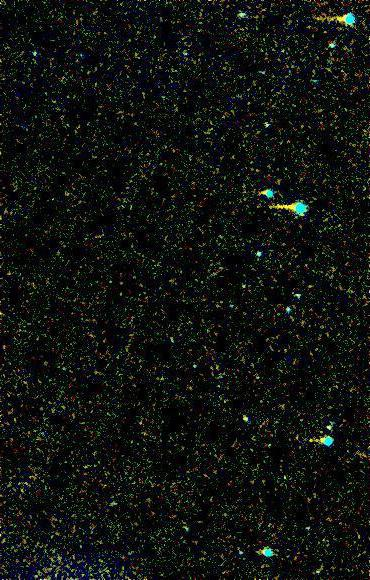star: (230, 275, 260, 305)
